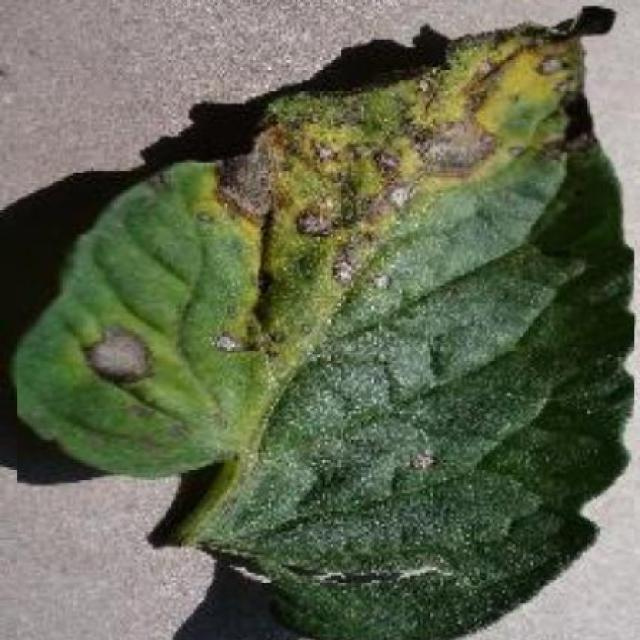Early Blight: (17, 5, 634, 640)
